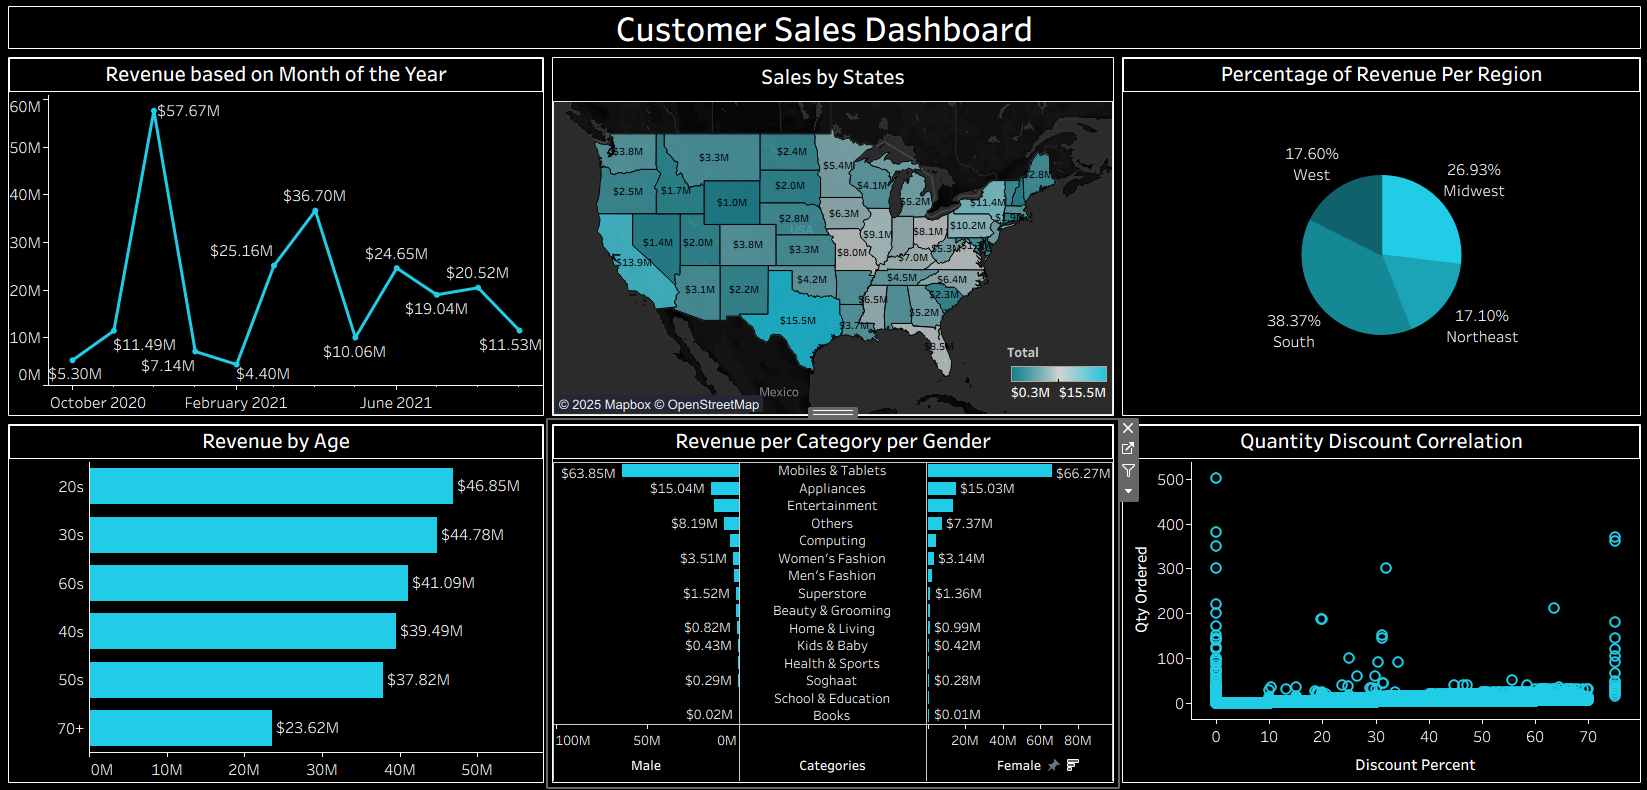

The dashboard page shown, as its layout file describes it:
{"tool":"tableau","page":{"name":"Dashboard","canvas":[1000,1000],"units":"permille","ordinal":0},"visuals":[{"type":"text","box":[6.8,16.2,986.4,62.8]},{"type":"worksheet","title":"Revenue based on Month of the Year","mark":"Line","rows":["total"],"cols":["order_date"],"box":[6.8,79,327.2,452.3]},{"type":"worksheet","title":"Sales by States","mark":"Automatic","box":[334,79,342.5,452.3]},{"type":"worksheet","title":"Percentage of Revenue Per Region","mark":"Pie","box":[676.5,79,316.7,452.3]},{"type":"legend","title":"Sales by States","param":"[federated.1ck69sn1dka8k616cz5nx0u0m0hy].[sum:total:qk]","box":[610.2,435.7,62.5,81.2]},{"type":"worksheet","title":"Revenue by Age","mark":"Bar","rows":["Calculation_371547034931712000"],"cols":["total"],"box":[6.8,531.3,327.2,452.5]},{"type":"worksheet","title":"Revenue per Category per Gender","mark":"Automatic","rows":["category"],"cols":["Calculation_371547034999177218","Calculation_371547034999091201","Calculation_371547034999607299"],"box":[334,531.3,342.5,452.5]},{"type":"worksheet","title":"Quantity Discount Correlation","mark":"Automatic","rows":["qty_ordered"],"cols":["Discount_Percent"],"box":[676.5,531.3,316.7,452.5]}]}

Visuals, with their boxes on the dashboard's canvas, which has no fixed pixel size, in thousandths of its width and height (x1, y1, x2, y2). These are canvas units, not pixel positions in the 1647x790 screenshot, which may show the page scaled, cropped or inside an application window:
text: Rect(7, 16, 993, 79)
"Revenue based on Month of the Year" worksheet (Line marks): Rect(7, 79, 334, 531)
"Sales by States" worksheet: Rect(334, 79, 676, 531)
"Percentage of Revenue Per Region" worksheet (Pie marks): Rect(676, 79, 993, 531)
"Sales by States" legend: Rect(610, 436, 673, 517)
"Revenue by Age" worksheet (Bar marks): Rect(7, 531, 334, 984)
"Revenue per Category per Gender" worksheet: Rect(334, 531, 676, 984)
"Quantity Discount Correlation" worksheet: Rect(676, 531, 993, 984)
